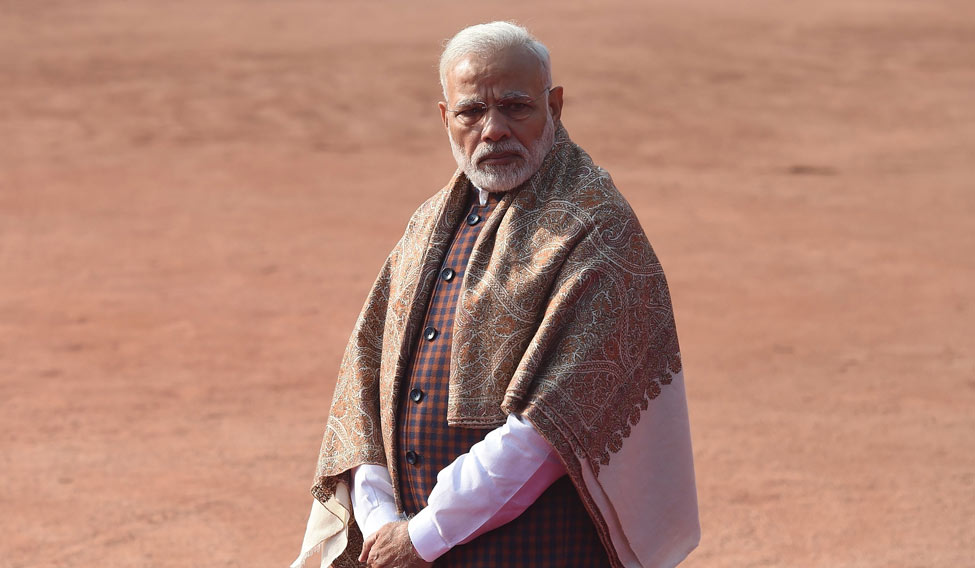modi: (406, 6, 658, 258)
